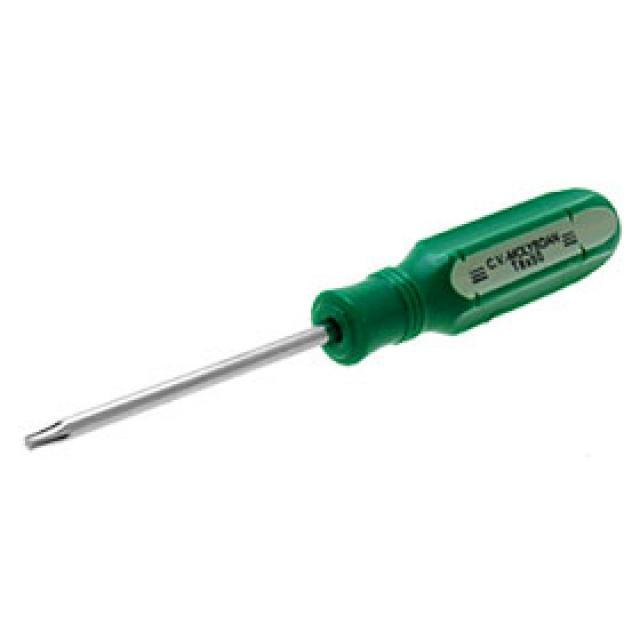screwdriver: (11, 179, 634, 471)
